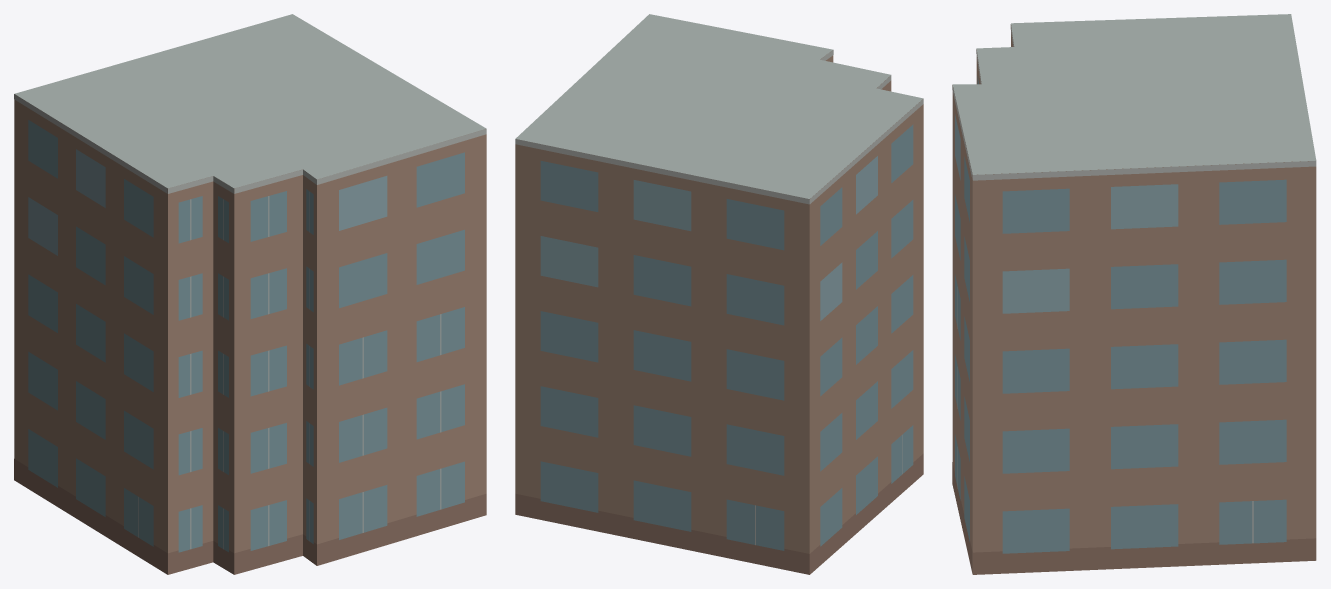
The model's file is survey-upis-32885171.glb.
3 renders of one model, left to right at view 1: azimuth 30°, elevation 25°; view 2: azimuth 150°, elevation 25°; view 3: azimuth 270°, elevation 25°, orthographic. The views are drawn at different scales.
Parts seen in each view (by area): view 1: survey-upis-32885171.tmp; view 2: survey-upis-32885171.tmp; view 3: survey-upis-32885171.tmp.
Boxes of the visible parts, x1=… form: survey-upis-32885171.tmp: x1=14, y1=14, x2=486, y2=574; survey-upis-32885171.tmp: x1=515, y1=14, x2=923, y2=574; survey-upis-32885171.tmp: x1=952, y1=14, x2=1316, y2=574.
Bounding box in the file's own units: 14.68 × 17 × 14.03.
